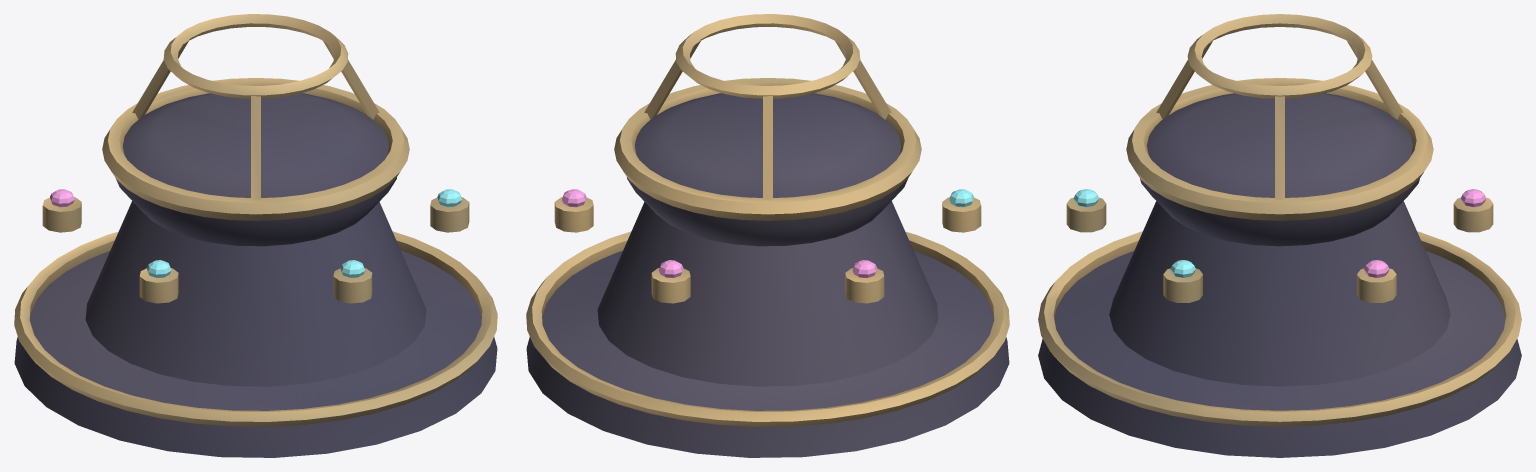
Rendered from hypercube_projector.glb.
3 views of the same model, side by side, from view 1: azimuth 30°, elevation 25°; view 2: azimuth 150°, elevation 25°; view 3: azimuth 270°, elevation 25° (orthographic).
Visible parts, largest first — view 1: projector; view 2: projector; view 3: projector.
Boxes of the visible parts, bbox=[...] form: projector: bbox=[14, 14, 497, 457]; projector: bbox=[526, 14, 1009, 457]; projector: bbox=[1038, 14, 1521, 457].
Bounding box in the file's own units: 1.7 × 1.18 × 1.7.
